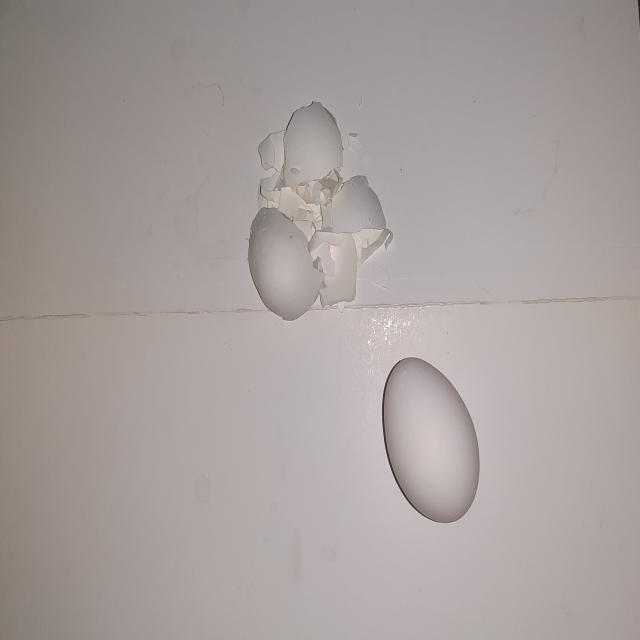egg shell: (380, 350, 482, 529), (248, 198, 322, 324), (287, 89, 343, 193), (302, 228, 362, 309), (317, 178, 403, 224)
